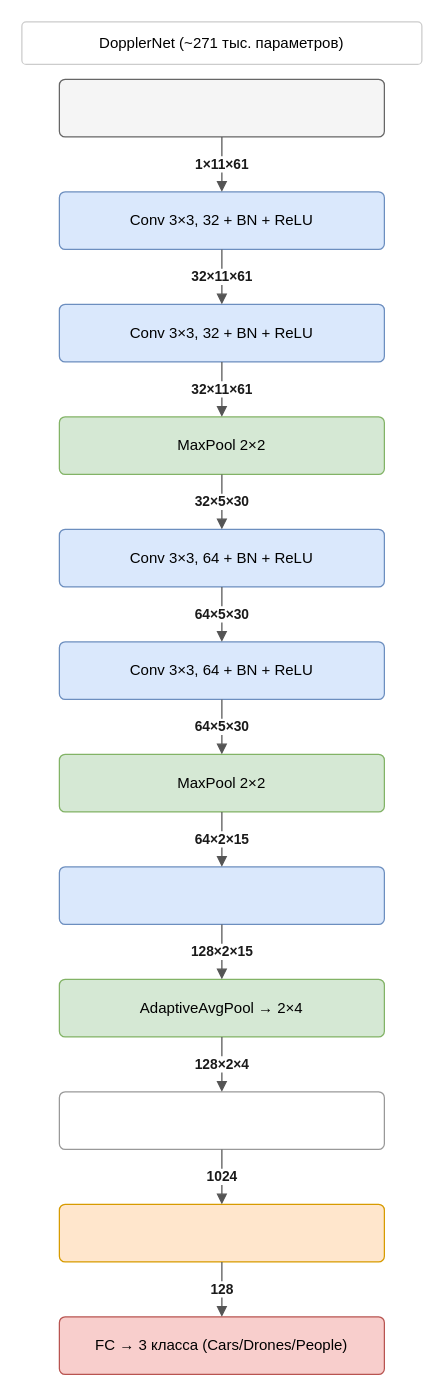
Some shapes in this 444 by 1396 pixel diagram are drawn without their labels. Each missing label, with the centre of its shape:
"Conv 3×3, 128 + BN + ReLU" goes at point 221,895.
"FC 128 + ReLU + Dropout 0,5" goes at point 221,1232.
"Flatten" goes at point 221,1120.
"Вход: 1×11×61 (range-Doppler карта)" goes at point 221,107.
